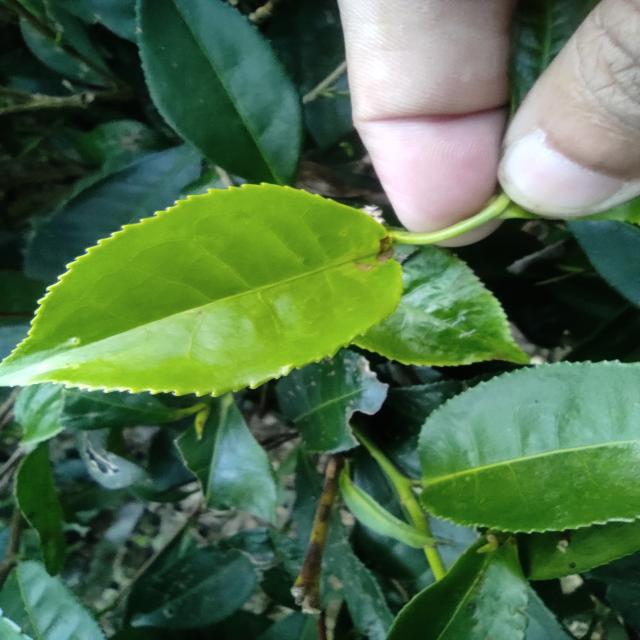Category C(4-7 days): (0, 152, 418, 443)
